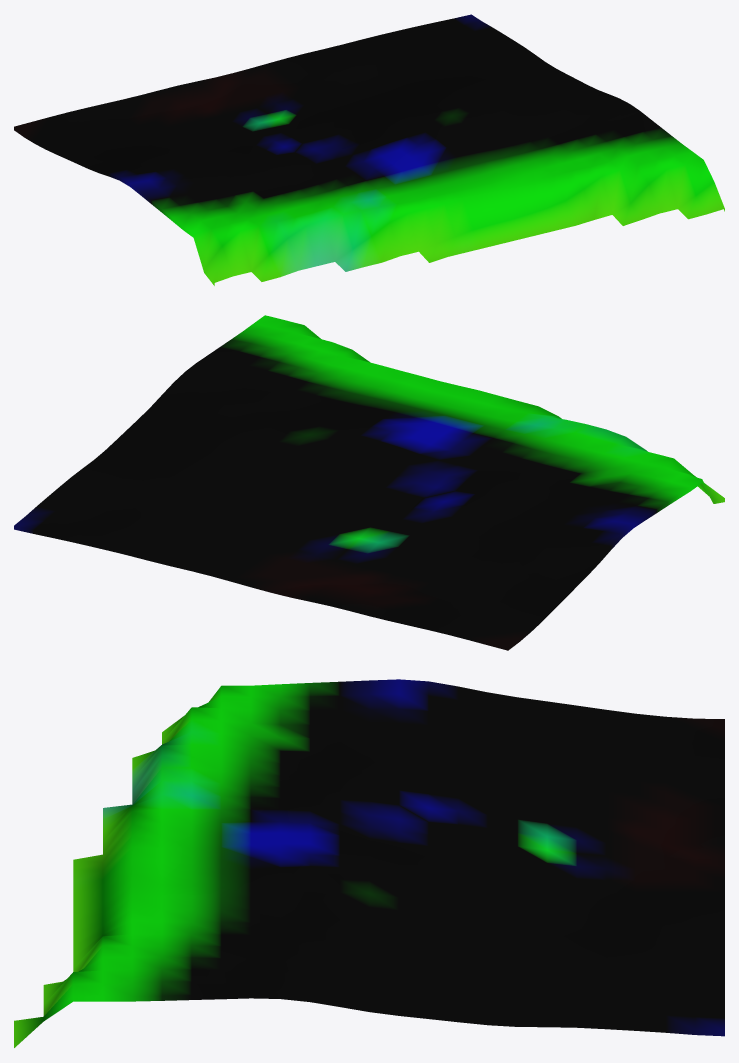
The model's file is coast_6_8.glb.
3 renders of one model, top to bottom at view 1: azimuth 30°, elevation 25°; view 2: azimuth 150°, elevation 25°; view 3: azimuth 270°, elevation 25°, orthographic. The views are drawn at different scales.
Visible parts, largest first — view 1: terrain; view 2: terrain; view 3: terrain.
Part boxes in pixels (left/top/right/bottom): terrain: left=14, top=14, right=724, bottom=285; terrain: left=14, top=315, right=724, bottom=650; terrain: left=14, top=679, right=724, bottom=1047.
Bounding box in the file's own units: 200 × 17.46 × 192.
